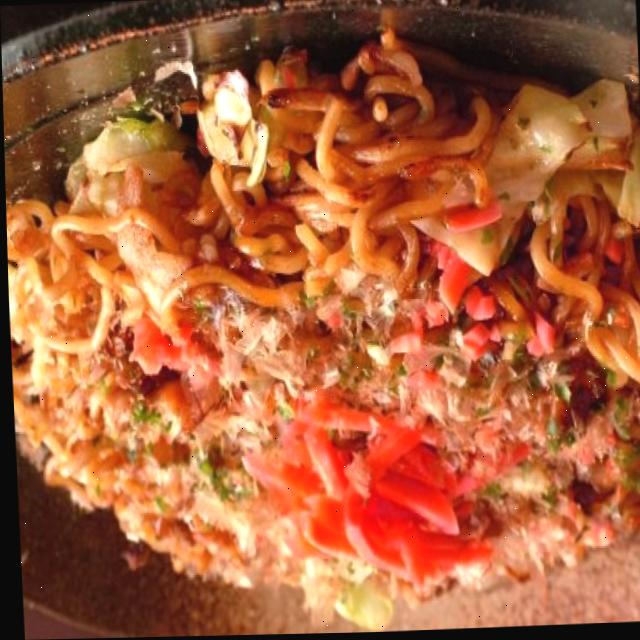面条主食: (1, 24, 640, 638)
